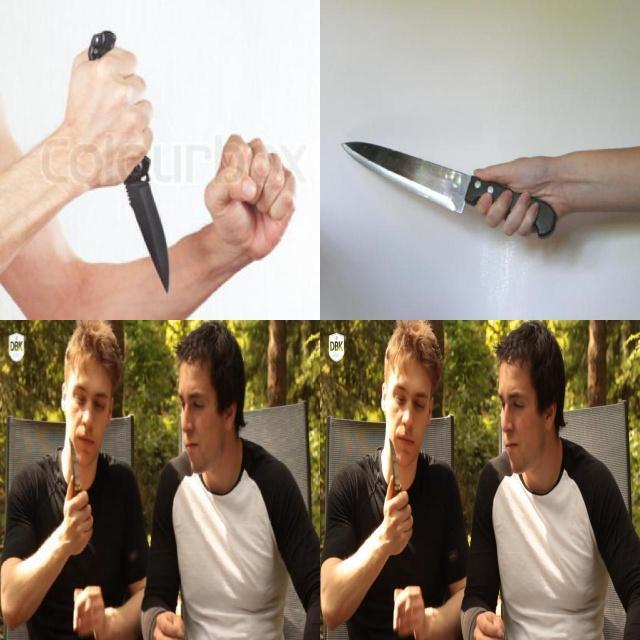-: (99, 95, 175, 306), (336, 133, 503, 215), (62, 433, 94, 531), (383, 433, 414, 530)
